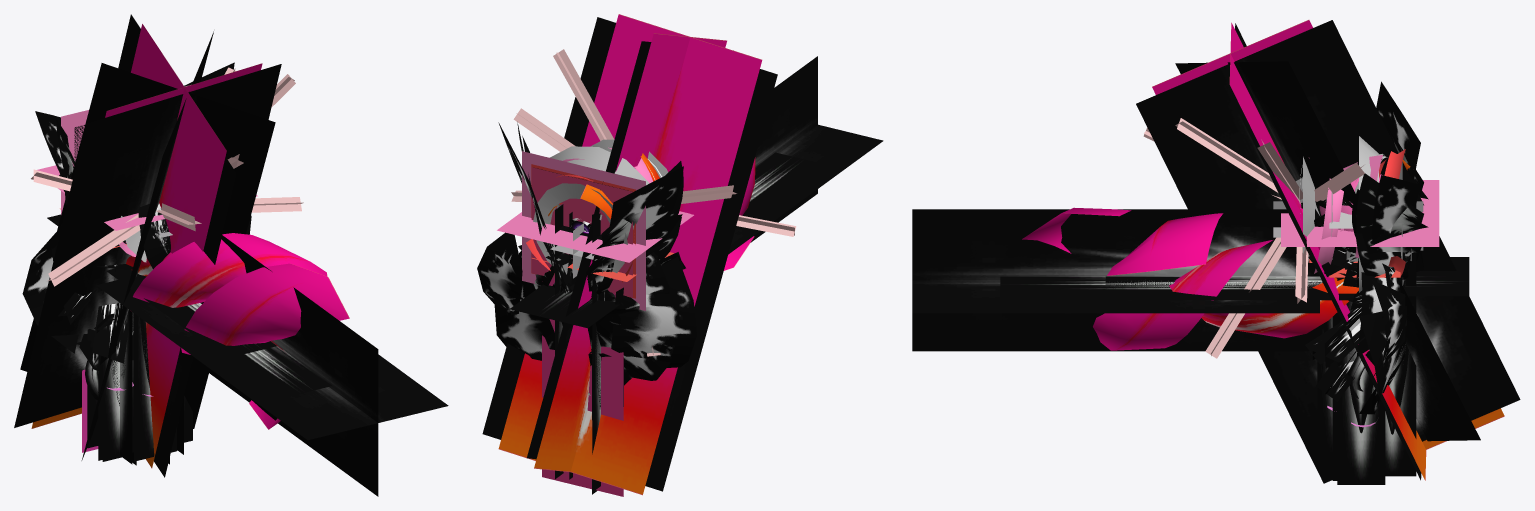
3 renders of one model, left to right at view 1: azimuth 30°, elevation 25°; view 2: azimuth 150°, elevation 25°; view 3: azimuth 270°, elevation 25°, orthographic. The views are drawn at different scales.
Parts seen in each view (by area): view 1: object0798_Plane35, "object0433_Editable Poly@#32", "object0393_Editable Poly@#28", object0813_Plane1320, object0810_Plane42, object1278_Plane76, "object0323_Editable Poly@#20", object1271_Plane72, "object0229_Editable Poly@#8", "object0350_Editable Poly@#23", object0759_Plane283, "object0384_Editable Poly@#27" (+10 smaller); view 2: object0813_Plane1320, object0798_Plane35, "object0229_Editable Poly@#8", "object0433_Editable Poly@#32", object1058_Plane44, object1368_Plane62@#106, "object0830_Editable Poly@#57", object1157_Plane56, "object0219_Editable Poly@#7", "object0323_Editable Poly@#20", "object0332_Editable Poly@#21", "object1049_Editable Poly@#80" (+15 smaller); view 3: "object0433_Editable Poly@#32", object0798_Plane35, "object0393_Editable Poly@#28", object0810_Plane42, "object0323_Editable Poly@#20", object0813_Plane1320, object1058_Plane44, object1278_Plane76, "object0229_Editable Poly@#8", "object0332_Editable Poly@#21", object1285_Plane77, object1066_Plane45 (+16 smaller).
Boxes of the visible parts, x1=… form: object0798_Plane35: x1=14, y1=14, x2=281, y2=477; "object0433_Editable Poly@#32": x1=96, y1=235, x2=448, y2=496; "object0393_Editable Poly@#28": x1=126, y1=233, x2=349, y2=429; object0813_Plane1320: x1=31, y1=24, x2=262, y2=468; object0810_Plane42: x1=20, y1=31, x2=275, y2=460; object1278_Plane76: x1=98, y1=303, x2=192, y2=464; "object0323_Editable Poly@#20": x1=106, y1=268, x2=382, y2=398; object1271_Plane72: x1=87, y1=313, x2=176, y2=461; "object0229_Editable Poly@#8": x1=22, y1=215, x2=251, y2=370; "object0350_Editable Poly@#23": x1=92, y1=255, x2=132, y2=364; object0759_Plane283: x1=47, y1=214, x2=140, y2=286; "object0384_Editable Poly@#27": x1=138, y1=203, x2=170, y2=269; object0813_Plane1320: x1=498, y1=14, x2=762, y2=495; object0798_Plane35: x1=482, y1=17, x2=777, y2=491; "object0229_Editable Poly@#8": x1=477, y1=232, x2=696, y2=385; "object0433_Editable Poly@#32": x1=728, y1=56, x2=883, y2=254; object1058_Plane44: x1=498, y1=122, x2=683, y2=295; object1368_Plane62@#106: x1=531, y1=167, x2=632, y2=297; "object0830_Editable Poly@#57": x1=522, y1=151, x2=645, y2=310; object1157_Plane56: x1=542, y1=278, x2=623, y2=496; "object0219_Editable Poly@#7": x1=544, y1=252, x2=670, y2=380; "object0323_Editable Poly@#20": x1=735, y1=152, x2=823, y2=228; "object0332_Editable Poly@#21": x1=509, y1=197, x2=761, y2=328; "object1049_Editable Poly@#80": x1=503, y1=211, x2=689, y2=259; "object0433_Editable Poly@#32": x1=912, y1=209, x2=1319, y2=351; object0798_Plane35: x1=1136, y1=20, x2=1520, y2=483; "object0393_Editable Poly@#28": x1=1022, y1=207, x2=1358, y2=350; object0810_Plane42: x1=1175, y1=61, x2=1480, y2=441; "object0323_Editable Poly@#20": x1=1000, y1=276, x2=1362, y2=300; object0813_Plane1320: x1=1152, y1=20, x2=1504, y2=480; object1058_Plane44: x1=1361, y1=81, x2=1424, y2=271; object1278_Plane76: x1=1337, y1=277, x2=1385, y2=484; "object0229_Editable Poly@#8": x1=1359, y1=280, x2=1406, y2=414; "object0332_Editable Poly@#21": x1=1105, y1=257, x2=1469, y2=296; object1285_Plane77: x1=1332, y1=205, x2=1416, y2=480; object1066_Plane45: x1=1352, y1=112, x2=1428, y2=261.
Bounding box in the file's own units: 4.53 × 7.28 × 8.92.
